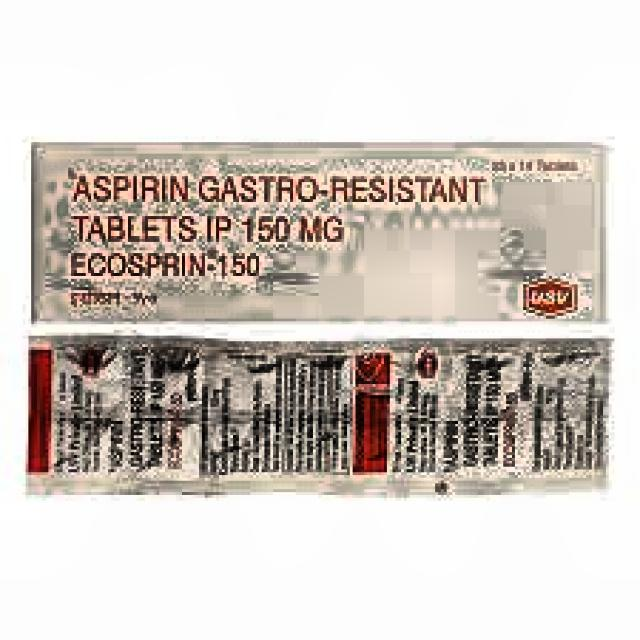Aspirin: (34, 151, 608, 327)
